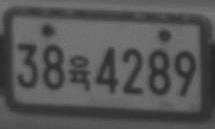2: (121, 47, 145, 95)
3: (17, 42, 38, 89)
4: (94, 46, 119, 93)
8: (148, 48, 170, 95), (43, 44, 65, 90)
9: (173, 49, 197, 97)
육: (69, 56, 91, 91)
